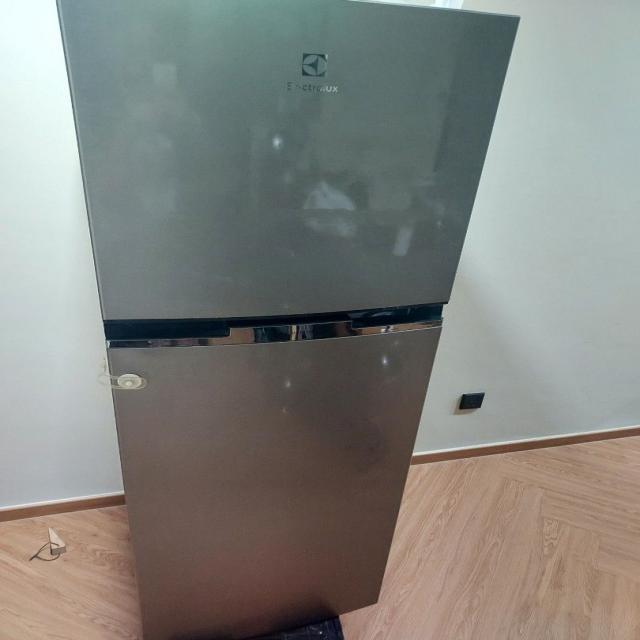refrigerator: (51, 0, 521, 635)
